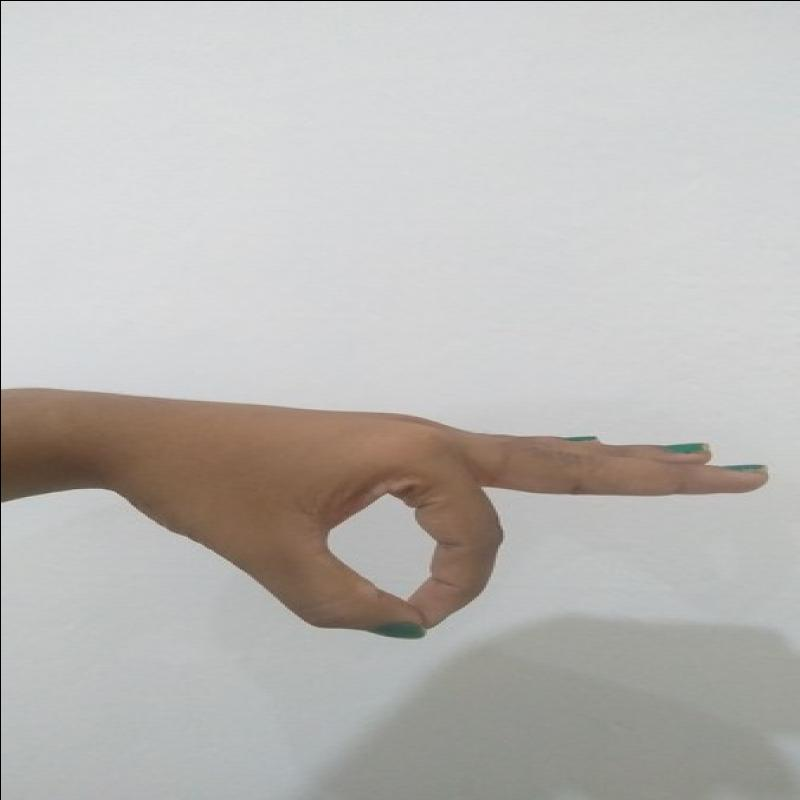Mudraakhyam: (53, 383, 780, 647)
